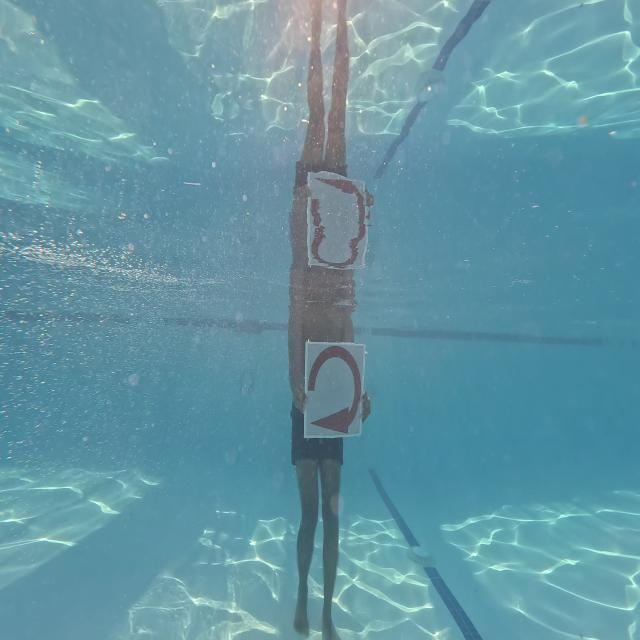red_side: (299, 333, 366, 442)
